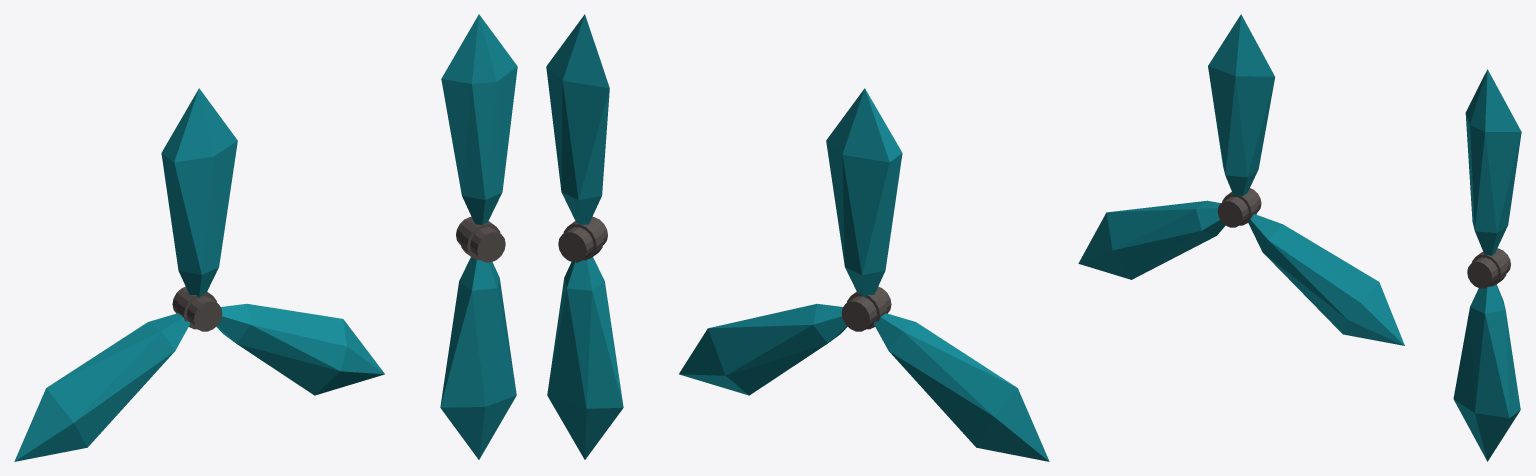
Rendered from turbines.fbx.
3 renders of one model, left to right at view 1: azimuth 30°, elevation 25°; view 2: azimuth 150°, elevation 25°; view 3: azimuth 330°, elevation 25°, orthographic. The views are drawn at different scales.
Visible parts, largest first — view 1: Turbine.001, Turbine; view 2: Turbine.001, Turbine; view 3: Turbine.001, Turbine.
Part boxes in pixels (<box>): Turbine.001: <box>14,88,384,461</box>; Turbine: <box>440,14,517,459</box>; Turbine.001: <box>679,88,1049,461</box>; Turbine: <box>546,14,623,459</box>; Turbine.001: <box>1078,14,1404,345</box>; Turbine: <box>1453,69,1521,461</box>.
Bounding box in the file's own units: 738 × 625 × 54.31.
